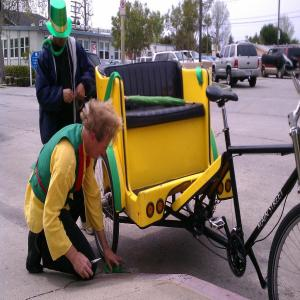Vehicle-registration-plate: (246, 72, 253, 76)
